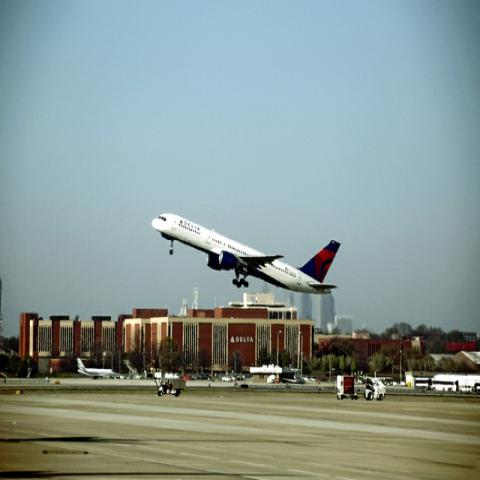car: (310, 375, 318, 382), (222, 377, 231, 382)
truck: (336, 373, 386, 401)
